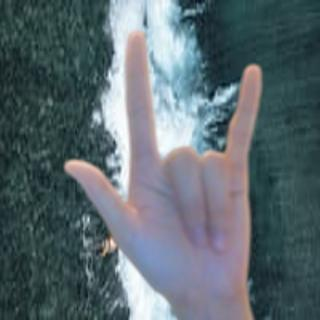ILY: (59, 27, 274, 302)
